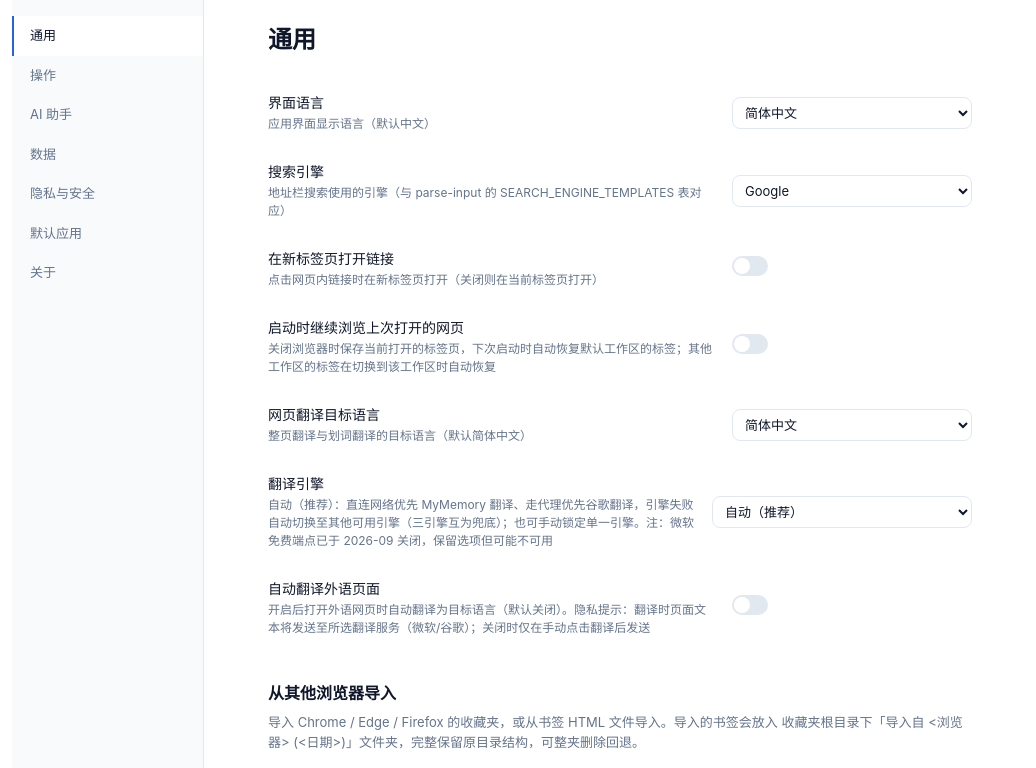
Test: FilesTab (默认应用) › should render three group cards with status
What coordinates should you click on to do the following:
click the button "默认应用"
I would click on:
 (108, 233)
Its box is [12, 214, 203, 253].
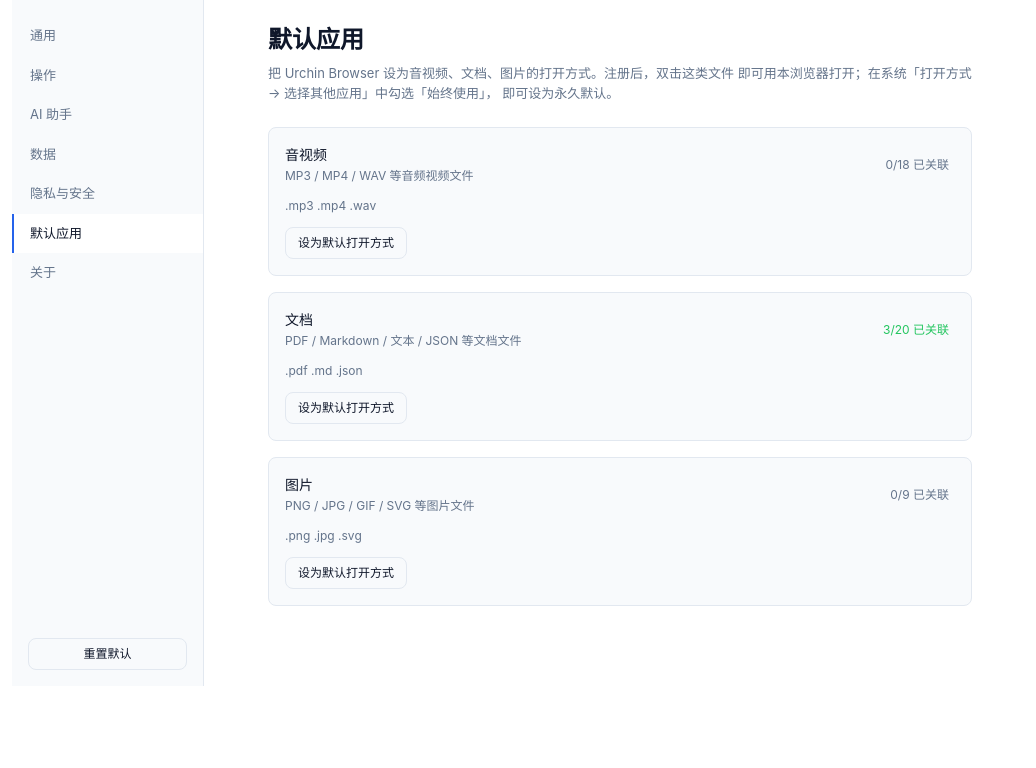
expect the text "音视频" is shown: met, box [285, 146, 327, 163]
expect the text "文档" is shown: met, box [285, 311, 313, 328]
expect the text "图片" is shown: met, box [285, 476, 313, 493]
